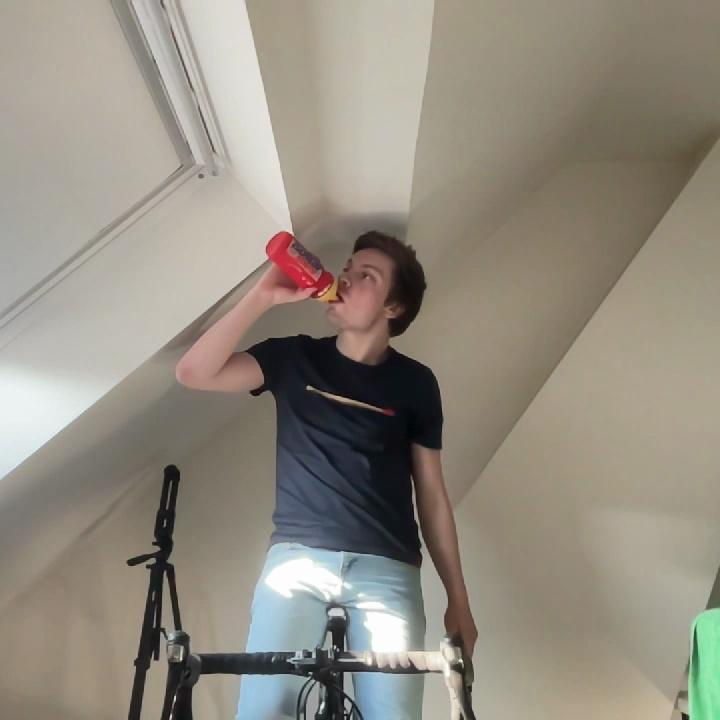Drinking: (264, 227, 402, 331)
